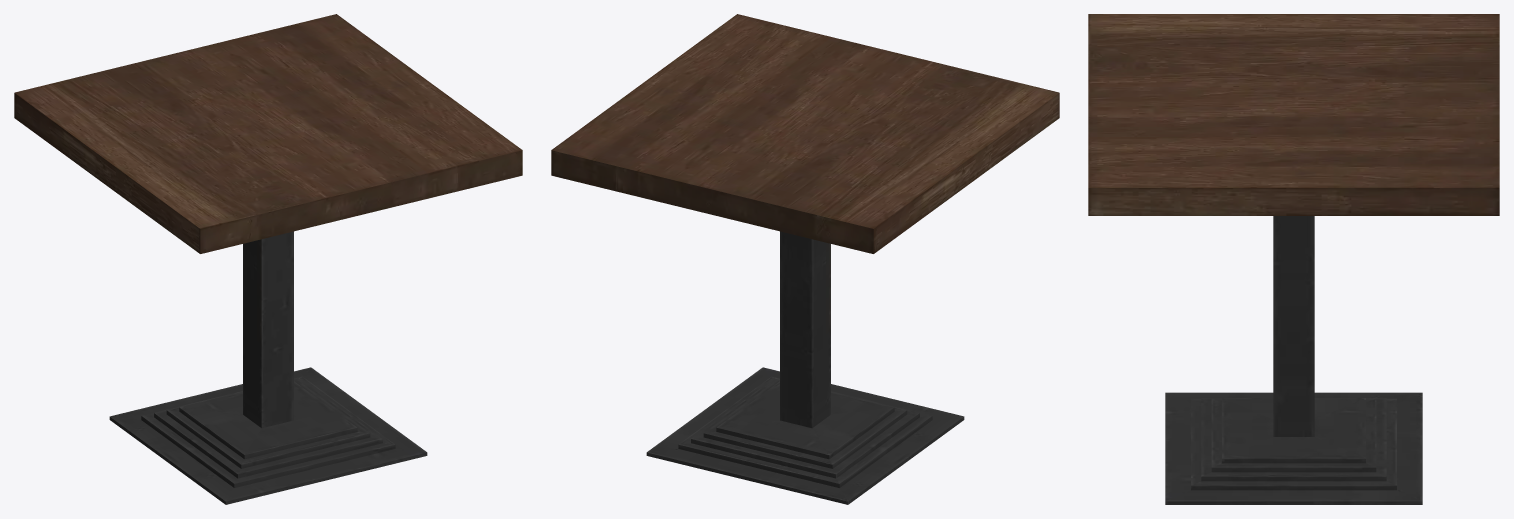
Rendered from table-bistrot.glb.
3 views of the same model, side by side, from view 1: azimuth 30°, elevation 25°; view 2: azimuth 150°, elevation 25°; view 3: azimuth 270°, elevation 25° (orthographic). The views are drawn at different scales.
Visible parts, largest first — view 1: re_tb_01; view 2: re_tb_01; view 3: re_tb_01.
Boxes of the visible parts, box(x1,y1,x2,y2) form: re_tb_01: box(14, 14, 522, 504); re_tb_01: box(551, 14, 1059, 504); re_tb_01: box(1088, 14, 1499, 504).
Bounding box in the file's own units: 0.8 × 0.75 × 0.8.
1 material, 1 textured.
